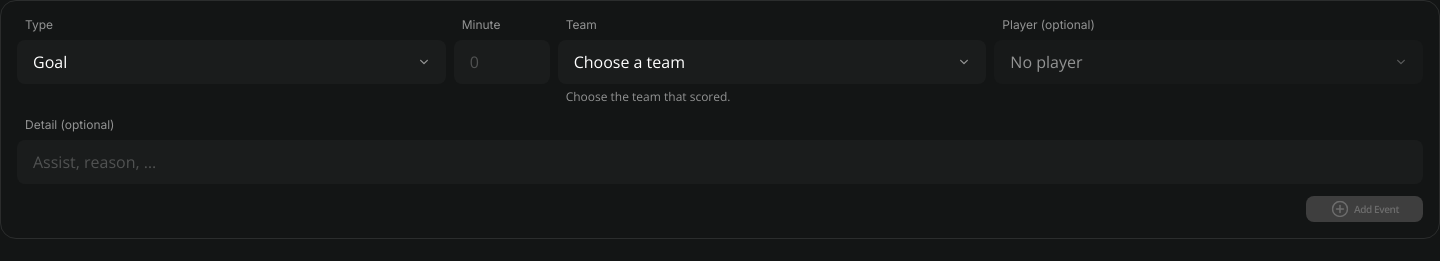
Scenario: MatchEventFormComponent › checks the minute, with messages short enough for its narrow field
The image size is (1440, 261).
Select "Fan City" in the dropdown labelled "Team" at [772, 62], box [558,40,986,84]
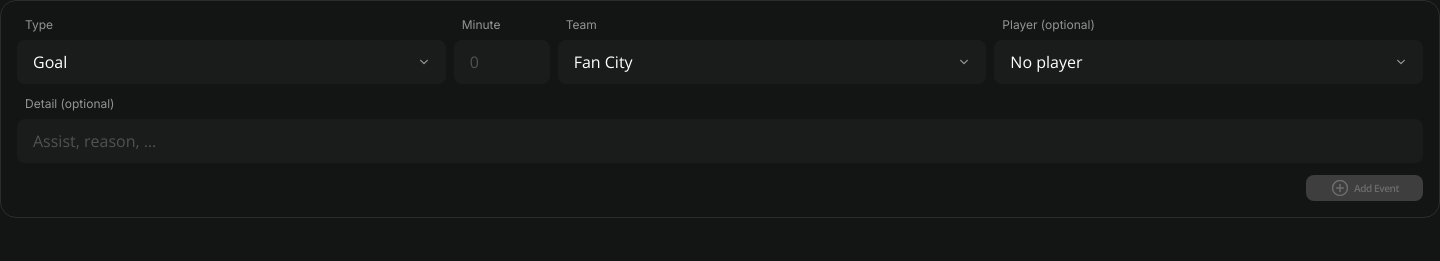
Type "-3" into the field with id "event-minute".
click(502, 62); type("-3")  # box [470,40,534,84]
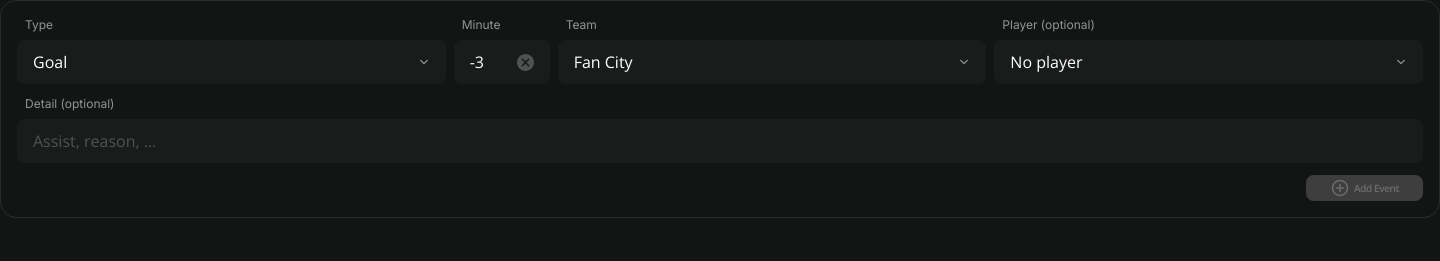
Leave the field with id "event-minute", box [470,40,509,84]
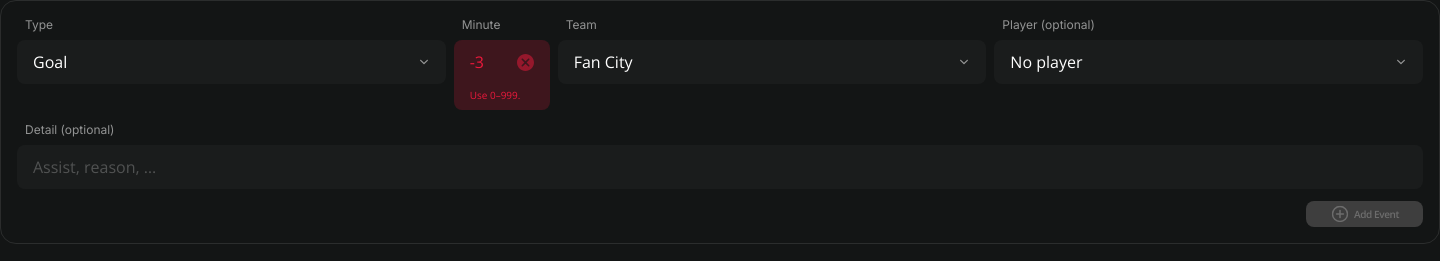
Expected: the submit button is disabled, [1306,201,1423,227]
Expected: the text "Use 0–999." is shown, [470,88,520,102]
Clear the field with id "event-minute" at [489, 62], box [470,40,509,84]
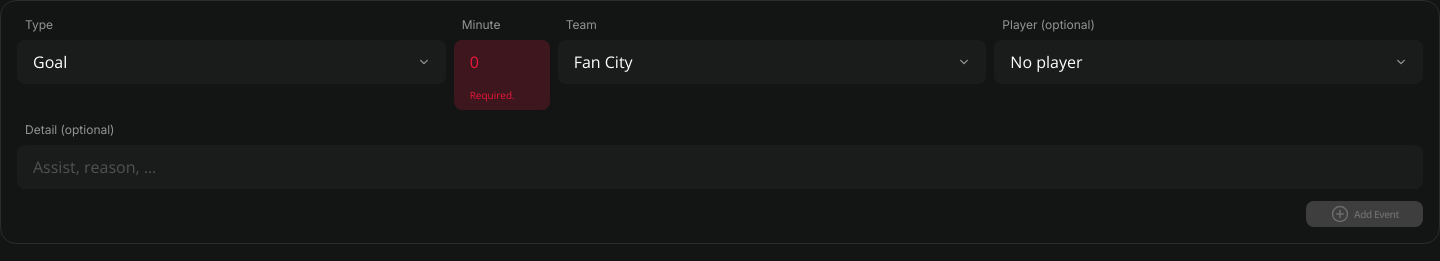
Expected: the text "Required." is shown, [470,88,515,102]
Type "45" into the field with id "event-minute".
click(502, 62); type("45")  # box [470,40,534,84]
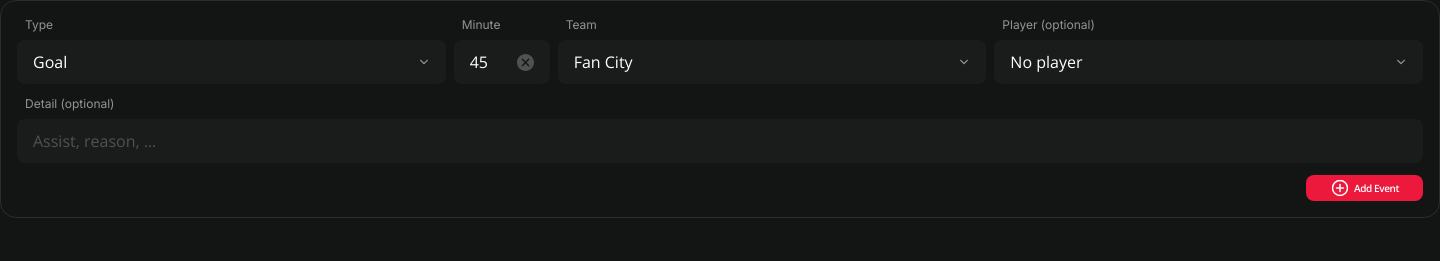
Expected: the submit button is enabled, [1306,175,1423,201]
